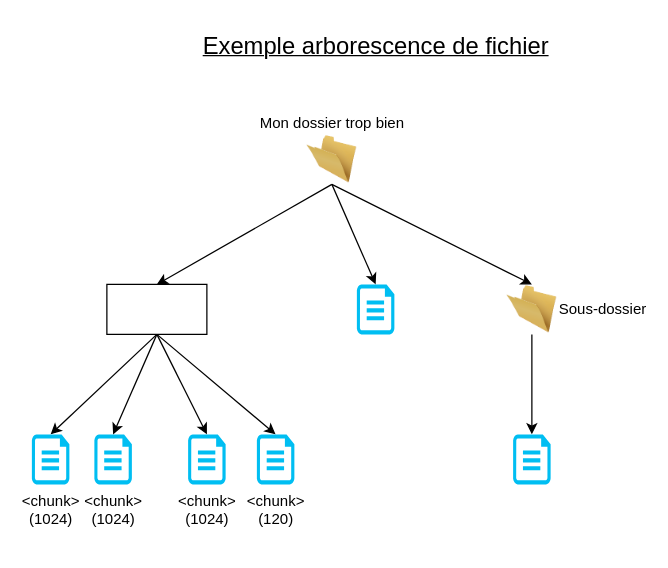
The diagram is 668 pixels wide and 568 high, and some of its shapes have lost their labels. Here are the shapes that lost their labels. From the top down, the centre of each, then its label:
At [156,308]: "CSGO.exe <bigfile> (3192)".
At [375,309]: "Chat.png <chunk> (1000)".
At [531,459]: "rapport.pdf <chunk> (512)".
